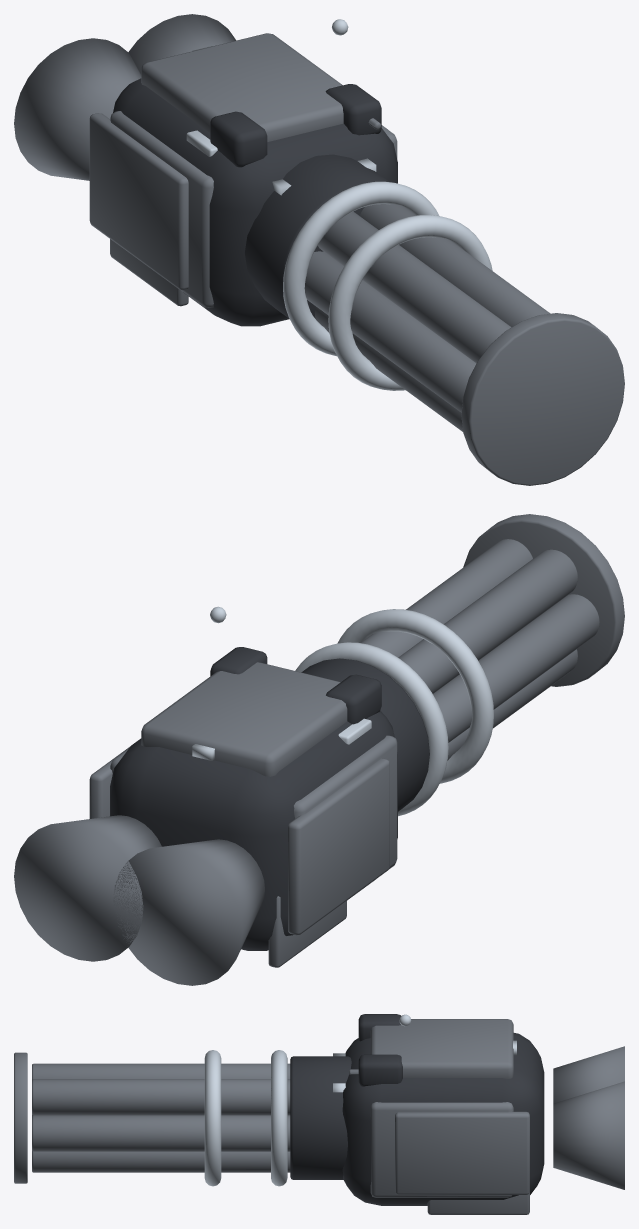
Rendered from weapon_drone_vulcan.glb.
The picture shows the model from 3 angles, top to bottom: view 1: azimuth 30°, elevation 25°; view 2: azimuth 150°, elevation 25°; view 3: azimuth 270°, elevation 25°; orthographic projection. The views are drawn at different scales.
Parts seen in each view (by area): view 1: weapon_drone_vulcan; view 2: weapon_drone_vulcan; view 3: weapon_drone_vulcan.
Part boxes in pixels (x1,y1,x2,y2): weapon_drone_vulcan: [14, 14, 624, 485]; weapon_drone_vulcan: [14, 514, 624, 985]; weapon_drone_vulcan: [14, 1014, 624, 1214].
Bounding box in the file's own units: 0.696 × 0.7692 × 2.21.
